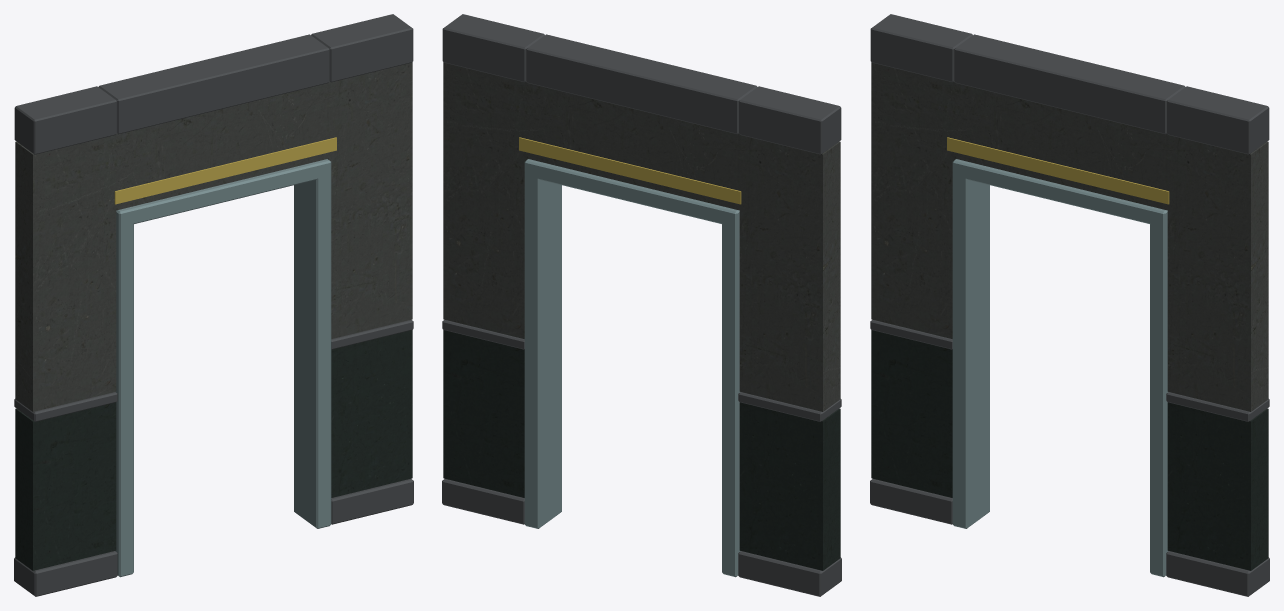
File: wall_doorway.glb
The picture shows the model from 3 angles, left to right: view 1: azimuth 30°, elevation 25°; view 2: azimuth 150°, elevation 25°; view 3: azimuth 330°, elevation 25°; orthographic projection.
Visible parts, largest first — view 1: wall_doorway; view 2: wall_doorway; view 3: wall_doorway.
Part boxes in pixels (bbox=[...]): wall_doorway: bbox=[14, 14, 413, 596]; wall_doorway: bbox=[442, 14, 841, 596]; wall_doorway: bbox=[870, 14, 1269, 596].
Bounding box in the file's own units: 2.5 × 3 × 0.278.
5 materials, 2 textured.
